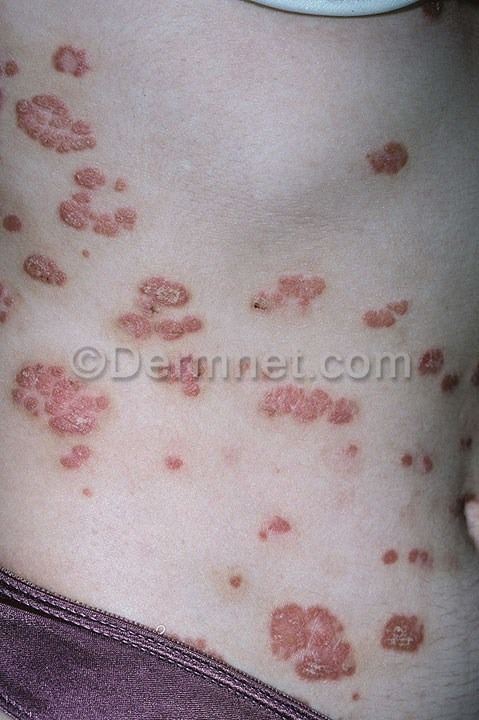Psoriasis: (368, 142, 412, 187)
